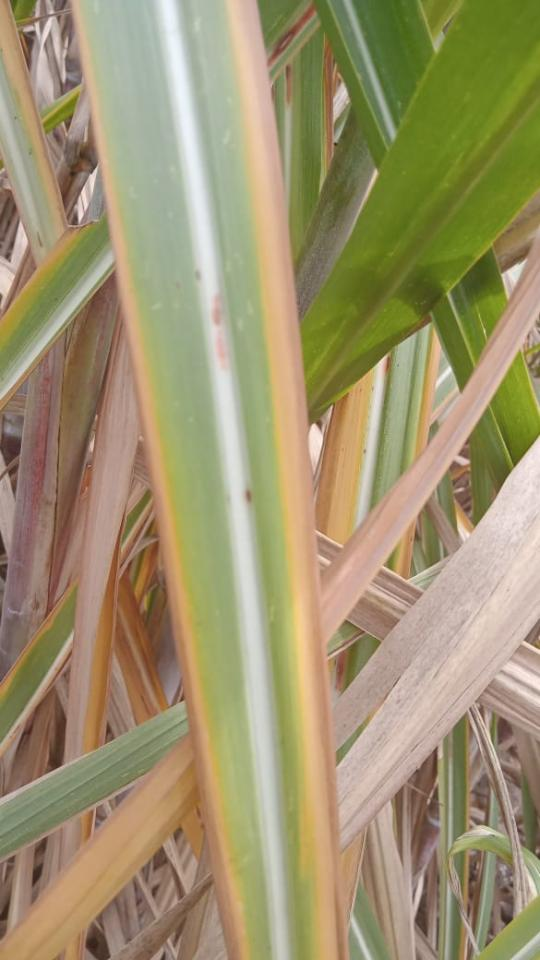RedRot: (215, 329, 227, 372), (210, 294, 222, 327)
Rust: (243, 488, 252, 504), (194, 269, 201, 283)
Yellow: (71, 0, 255, 959), (224, 0, 336, 959), (1, 735, 202, 959), (0, 0, 65, 236), (0, 230, 85, 355), (316, 371, 373, 543), (0, 582, 77, 696), (112, 573, 169, 726), (414, 331, 440, 462), (397, 521, 416, 579)
